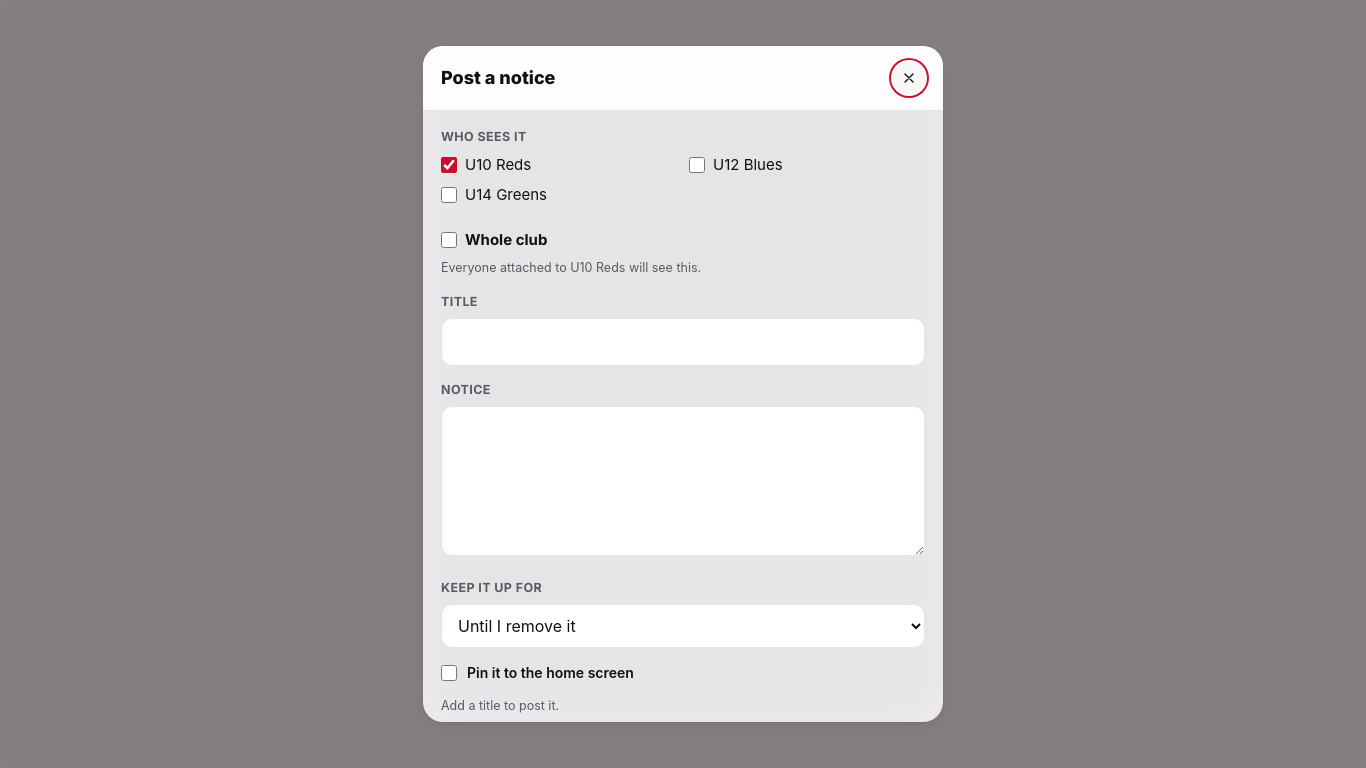
it: who a notice is sent to › warns that people in two of the chosen squads are only notified once
Click the checkbox labelled "U12 Blues": [697, 165] box [689,157,705,173]
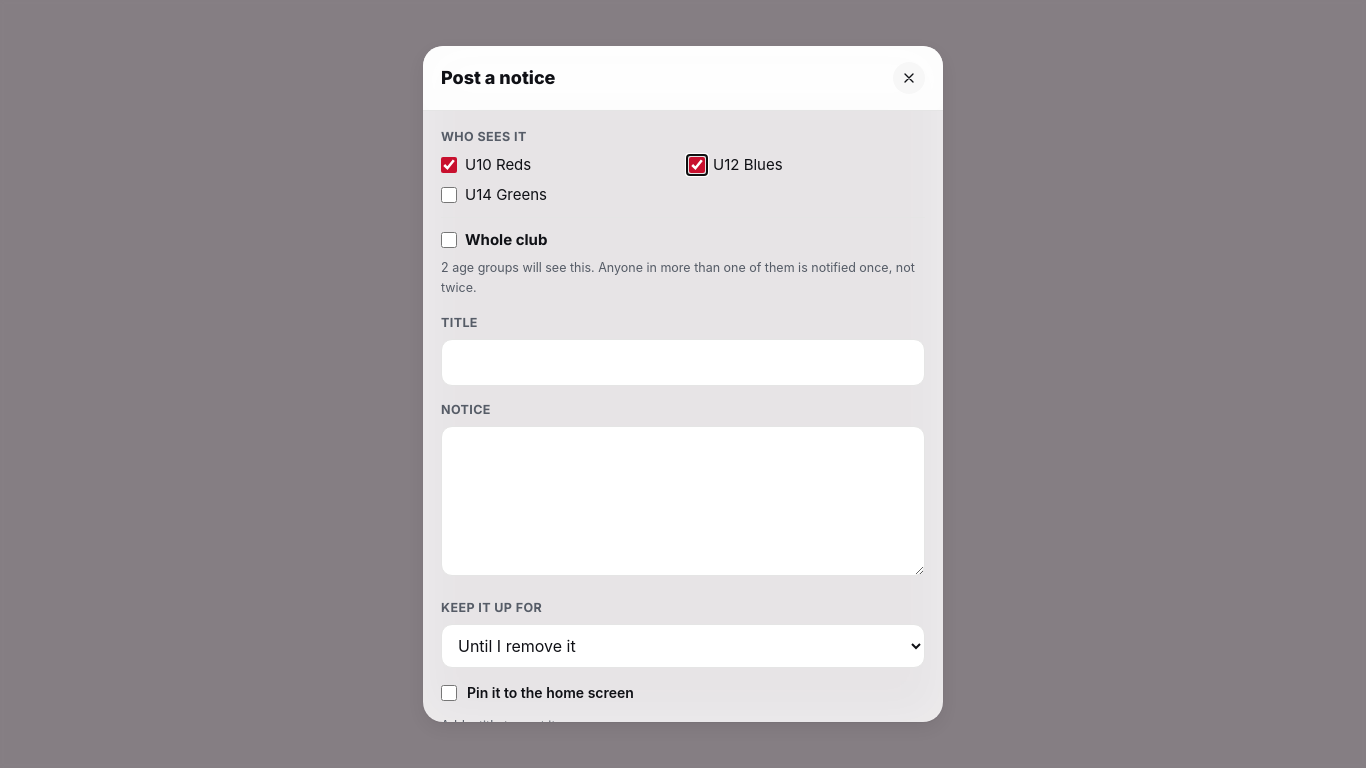
Now the text with test id "scope-hint" shows "once, not twice", box [441,260,915,295]
